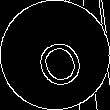O_NW: (25, 23, 85, 87)
